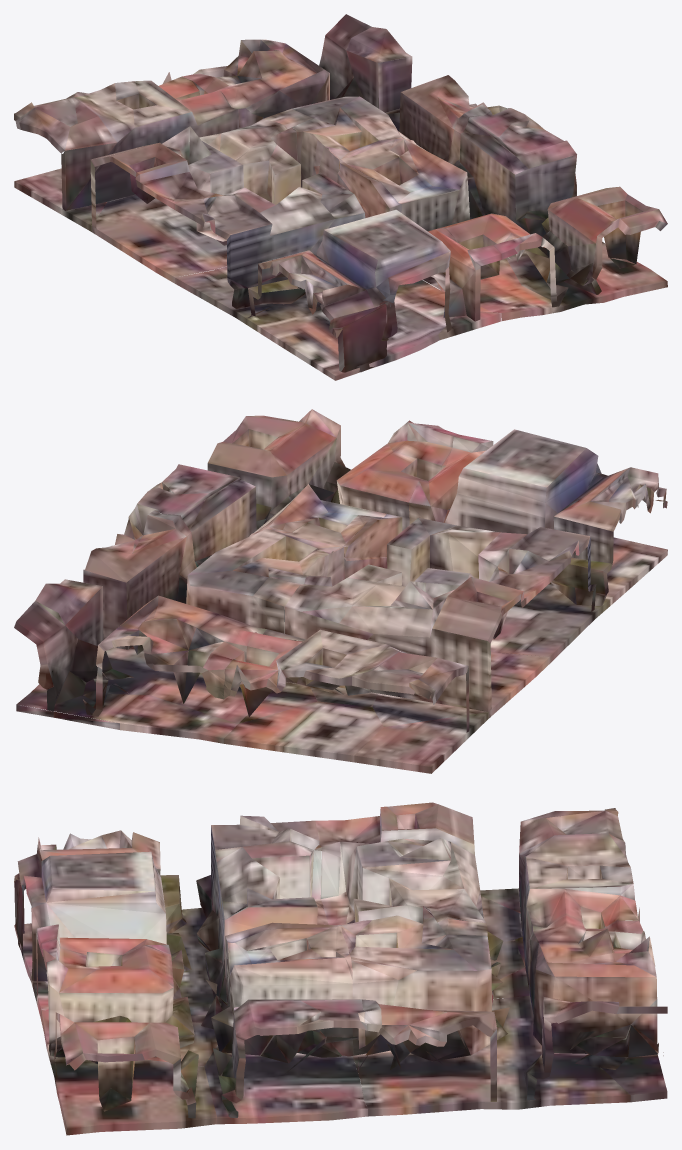
The picture shows the model from 3 angles, top to bottom: view 1: azimuth 30°, elevation 25°; view 2: azimuth 150°, elevation 25°; view 3: azimuth 270°, elevation 25°; orthographic projection. The views are drawn at different scales.
Visible parts, largest first — view 1: Mesh_0; view 2: Mesh_0; view 3: Mesh_0.
Boxes of the visible parts, bbox=[...] form: Mesh_0: bbox=[14, 14, 667, 380]; Mesh_0: bbox=[14, 409, 667, 773]; Mesh_0: bbox=[14, 802, 667, 1135].
Bounding box in the file's own units: 133 × 35.69 × 165.
1 material, 1 textured.
